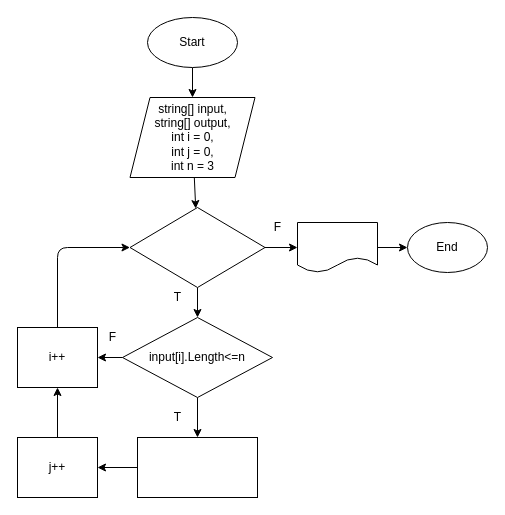
The diagram is 505 pixels wide and 515 high, and some of its shapes have lost their labels. Each missing label, with the centre of its shape:
"i<input.Length" belongs at [197,247].
"output" belongs at [337,247].
"output[j] = input[i]" belongs at [197,467].
